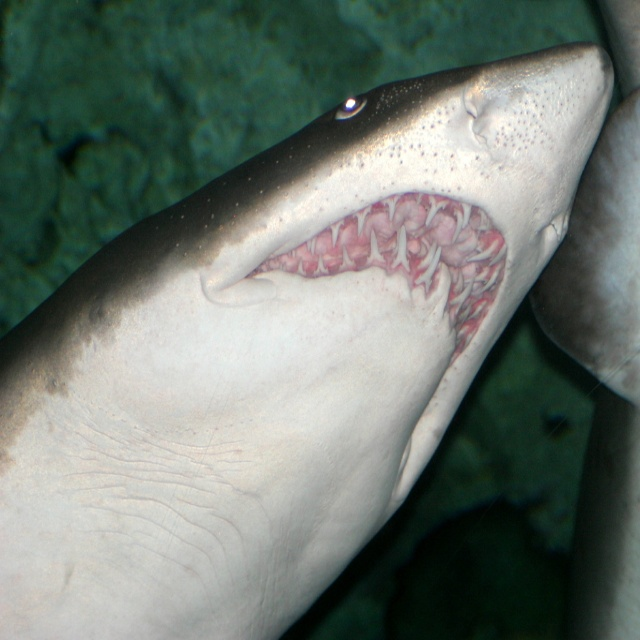Shark: (1, 45, 616, 638)
